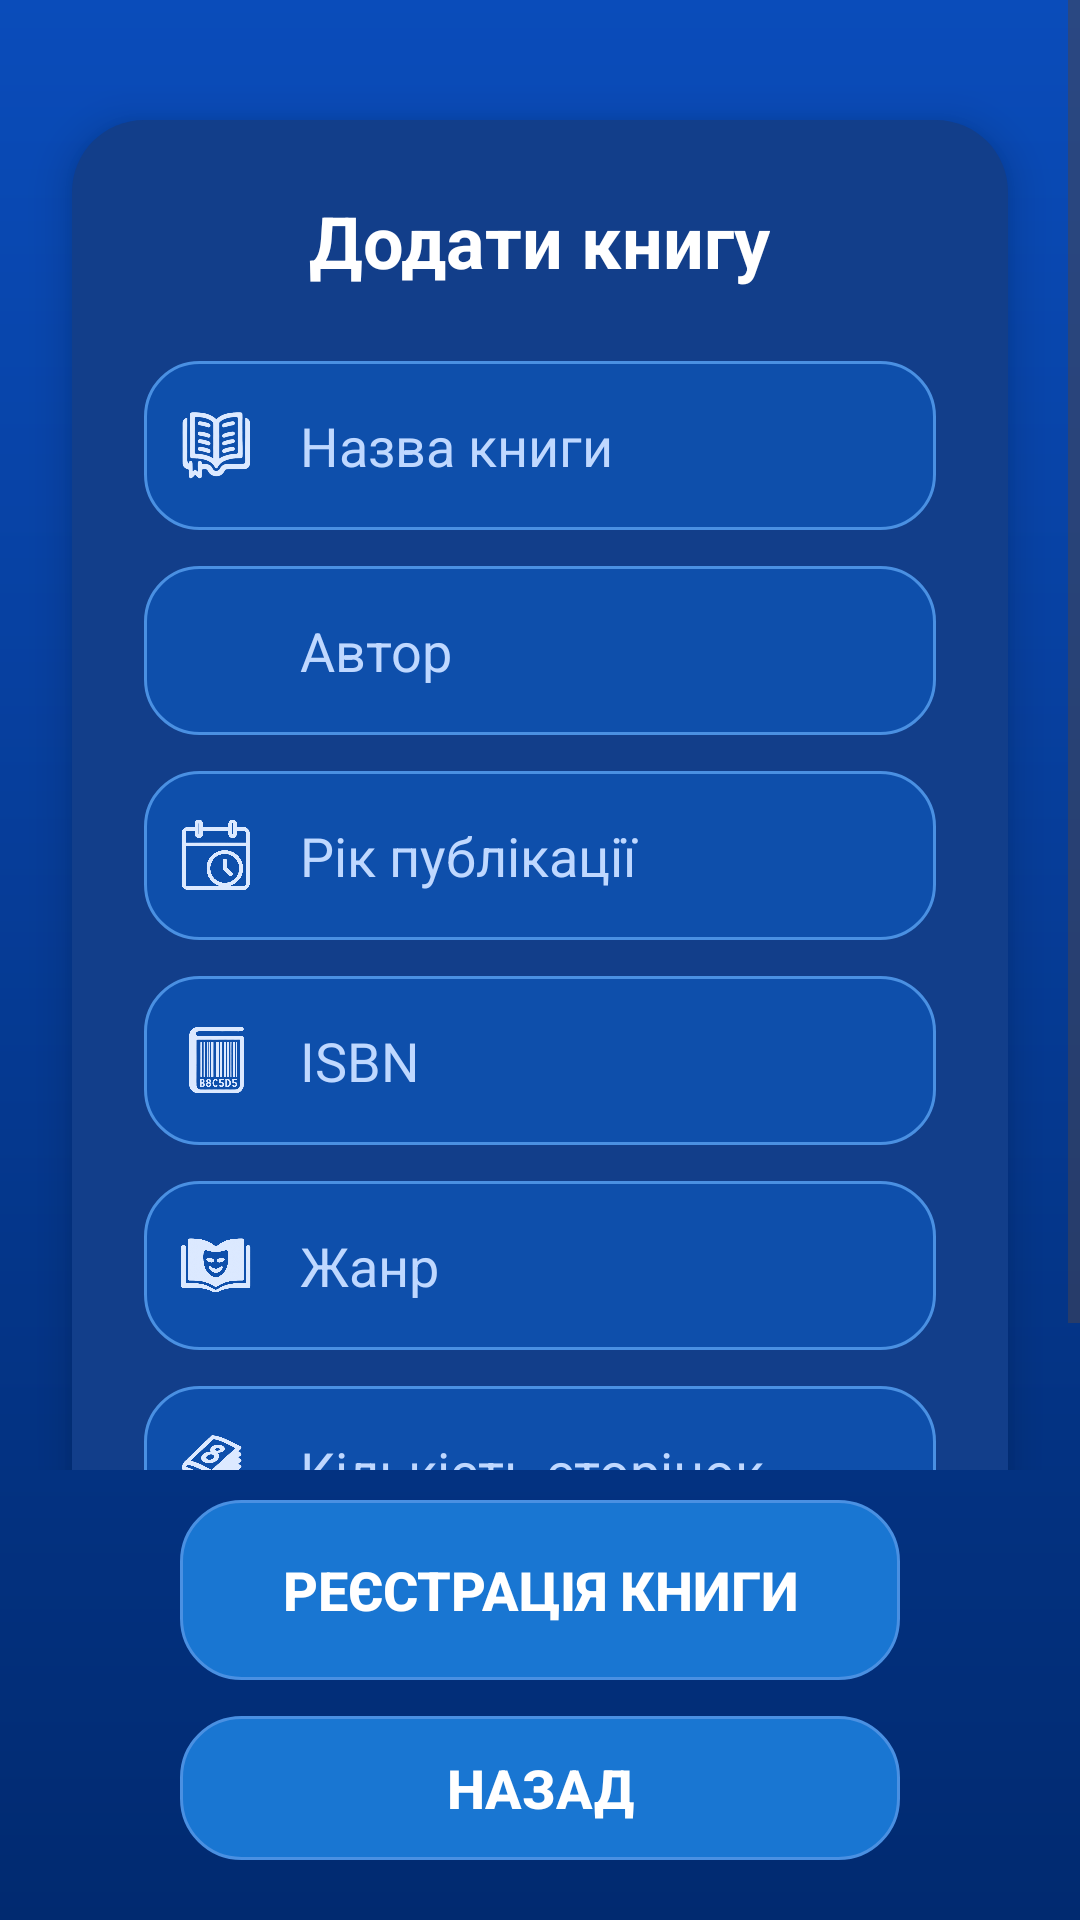

Point at icon controls on the screen. Image size 1080 x 1920, points as (x=x, y=y).
book: (x=216, y=445)
genre: (x=216, y=1265)
year: (x=216, y=855)
